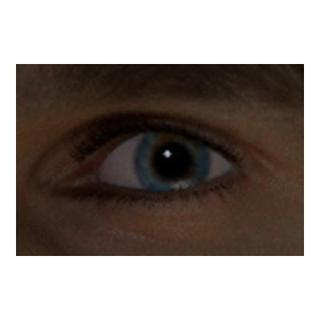pupil: (156, 144, 190, 178)
